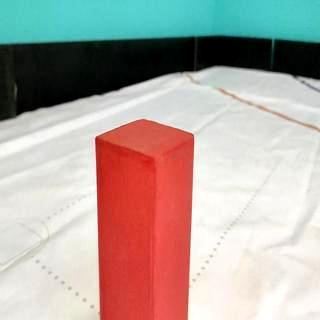redbox: (95, 117, 195, 320)
